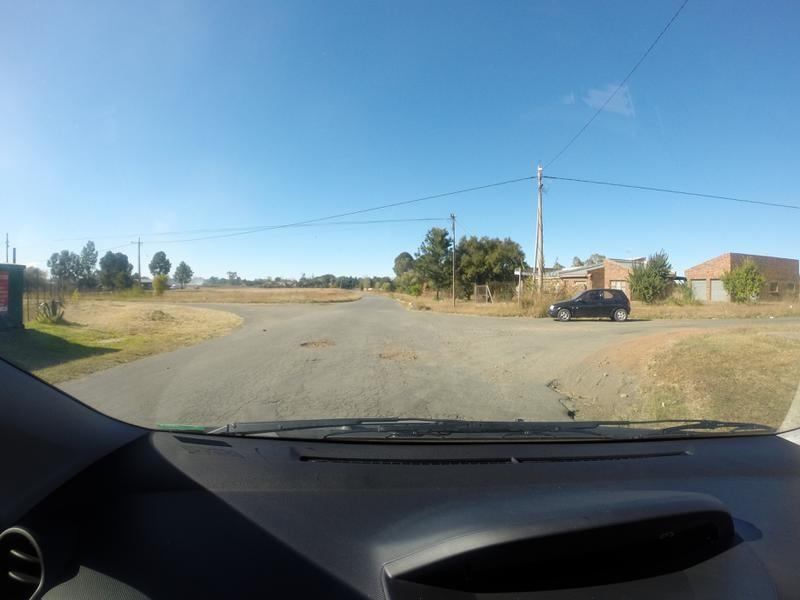pothole: (533, 377, 610, 412), (372, 341, 419, 370), (295, 334, 335, 356)
